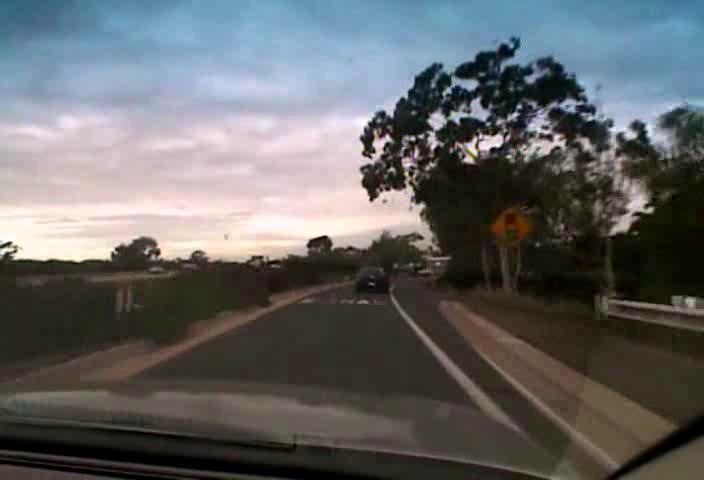signalAhead: (489, 204, 533, 247)
